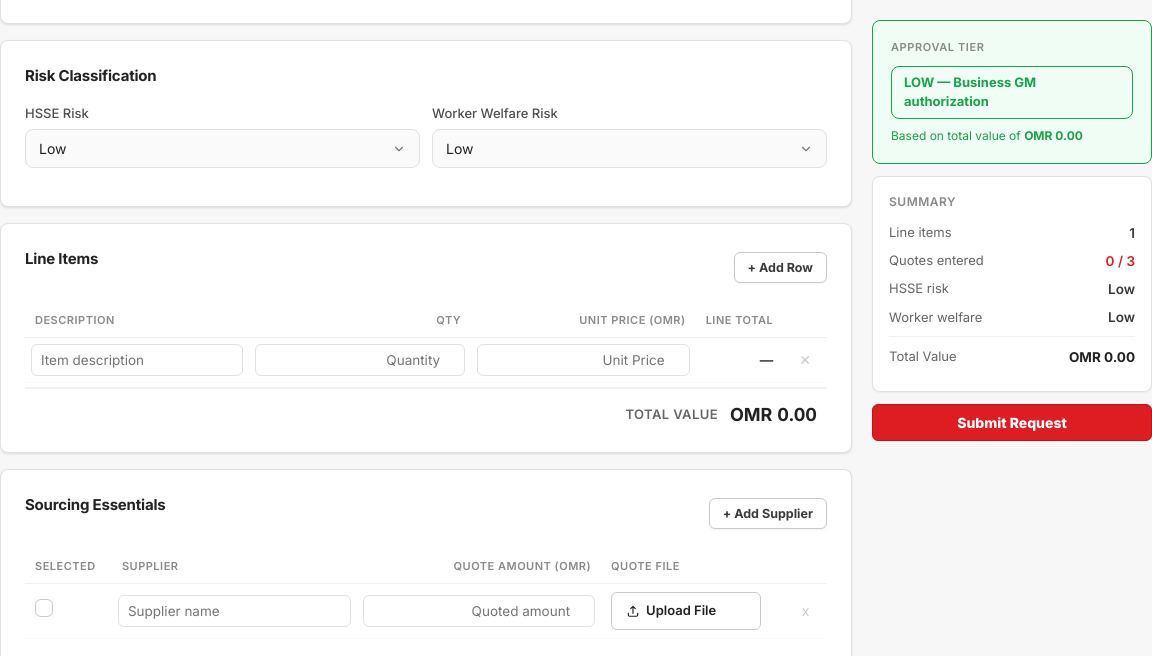
Test: shows MEDIUM tier badge when total is 25001-300000
(page scrolled)
Type "1" into the number field with placeholder "Quantity" at [360, 360], box [255, 344, 465, 376]
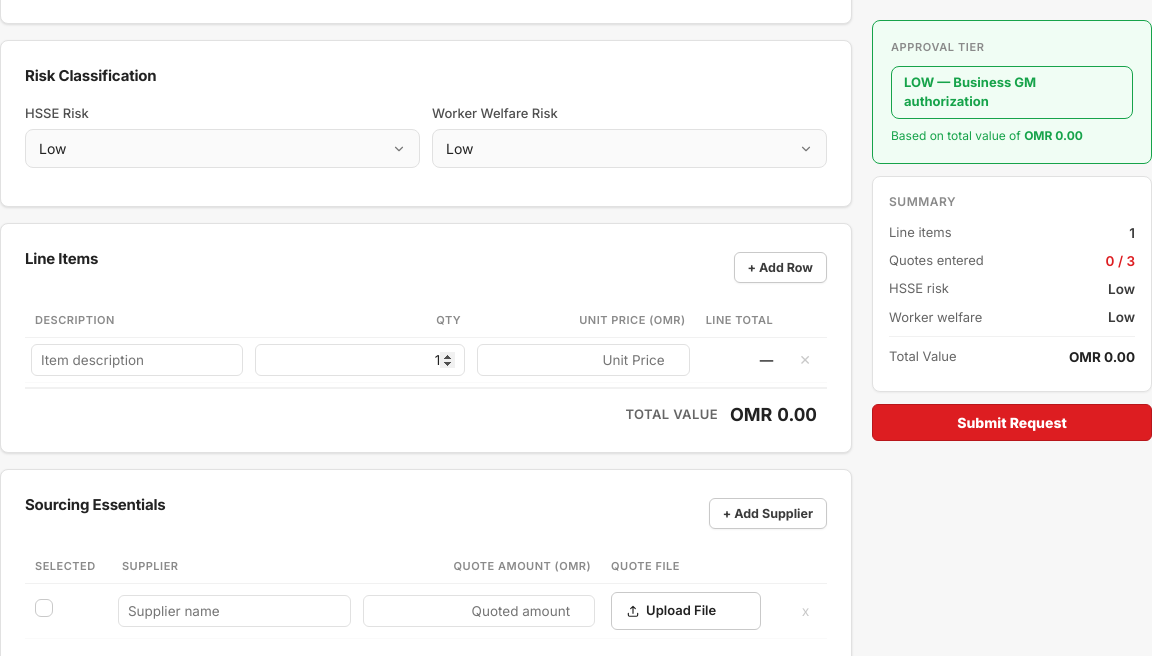
Type "80000" into the number field with placeholder "Unit Price" at [583, 360], box [477, 344, 690, 376]
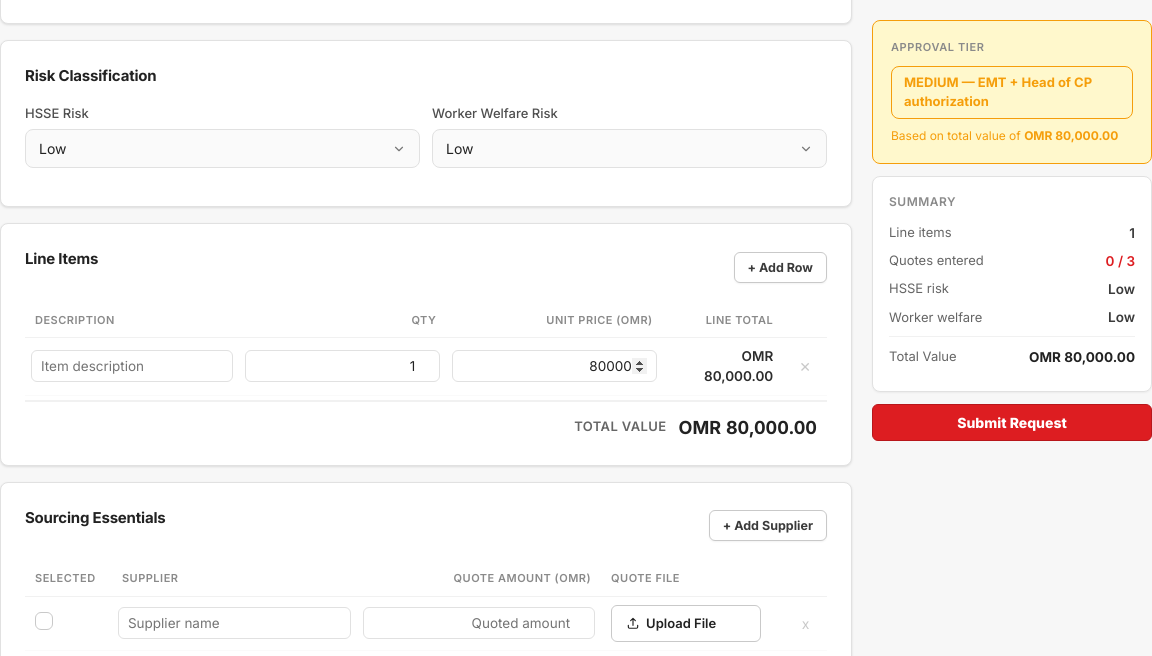
Check: the text with test id "tier-badge" reads "MEDIUM — EMT + Head of CP authorization", box [904, 74, 1092, 109]
